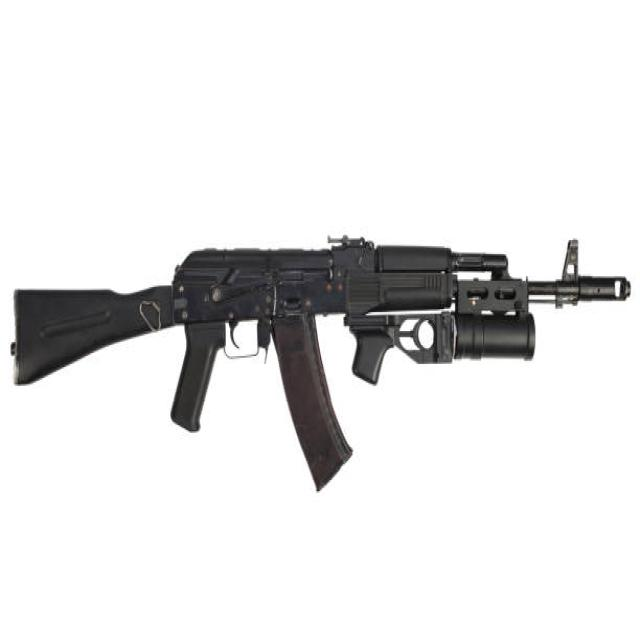rifle: (6, 229, 631, 497)
